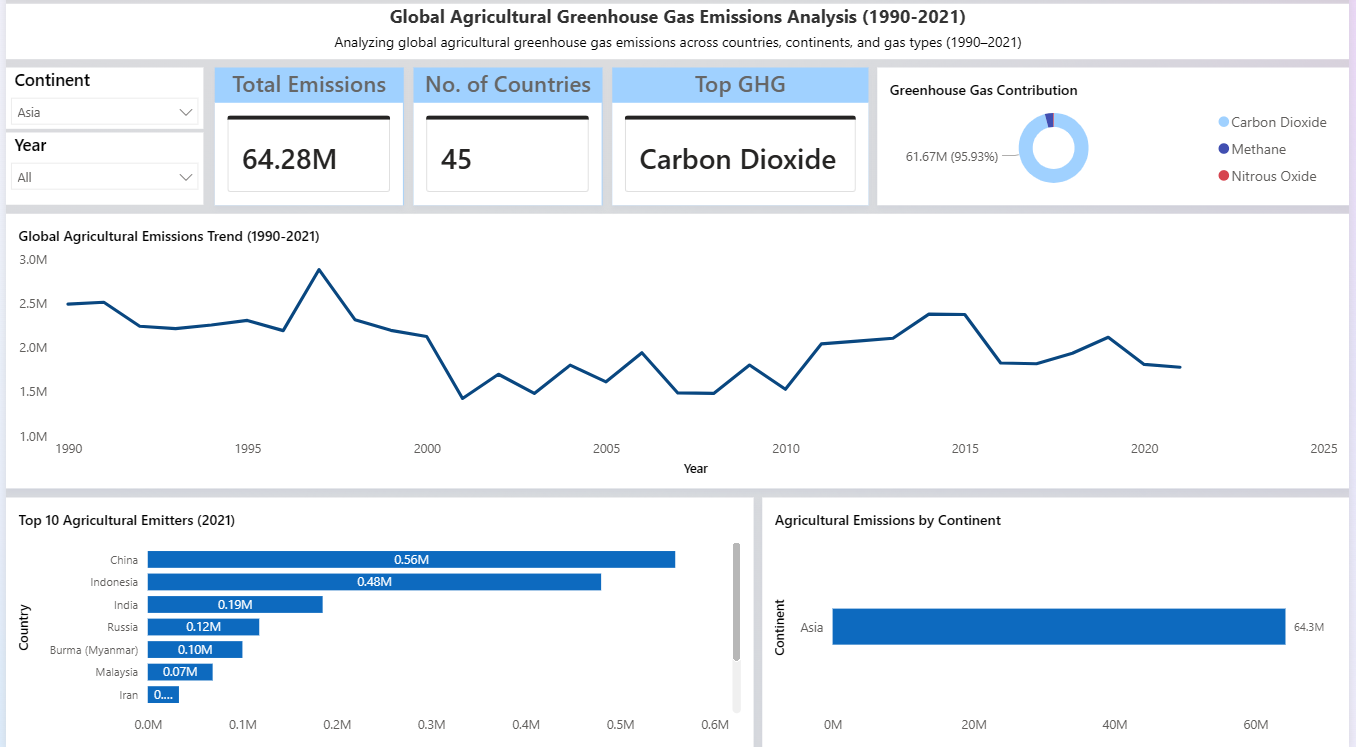

This screenshot's page, from the dashboard's own definition file:
{"tool":"powerbi","page":{"name":"Page 1","canvas":[1280,720],"ordinal":0},"visuals":[{"type":"lineChart","title":"Global Agricultural Emissions Trend (1990-2021)","fields":{"Category":["GHG_Emissions_Final.Year"],"Y":["Sum(GHG_Emissions_Final.Emission)"]},"box":[0,208.3,1279.8,261.9],"z":0},{"type":"slicer","fields":{"Values":["GHG_Emissions_Final.Continent"]},"box":[0,69,188.1,58.3],"z":1000},{"type":"clusteredBarChart","title":"Agricultural Emissions by Continent","fields":{"Category":["GHG_Emissions_Final.Continent"],"Y":["Sum(GHG_Emissions_Final.Emission)"]},"box":[720.2,478.6,559.5,241.7],"z":2000},{"type":"donutChart","title":"Greenhouse Gas Contribution","fields":{"Category":["GHG_Emissions_Final.Gas_Type"],"Y":["Sum(GHG_Emissions_Final.Emission)"]},"box":[829.8,69,450,131],"z":3000},{"type":"textbox","title":"Global Agricultural Greenhouse Gas Emissions Analysis (1990-2021)","box":[0,8.4,1280,52.8],"z":4000},{"type":"cardVisual","title":"Total Emissions","fields":{"Data":["Sum(GHG_Emissions_Final.Emission)"]},"box":[198.8,69,179.8,131],"z":5000},{"type":"slicer","fields":{"Values":["GHG_Emissions_Final.Year"]},"box":[0,131,188.1,69],"z":6000},{"type":"cardVisual","title":"No. of Countries","fields":{"Data":["Count(GHG_Emissions_Final.Country)"]},"box":[388.1,69,179.8,131],"z":7000},{"type":"cardVisual","title":"Top GHG","fields":{"Data":["Min(GHG_Emissions_Final.Gas_Type)"]},"box":[577.4,69,244,131],"z":8000},{"type":"clusteredBarChart","title":"Top 10 Agricultural Emitters (2021)","fields":{"Category":["GHG_Emissions_Final.Country"],"Y":["Sum(GHG_Emissions_Final.Emission)"]},"box":[0,478.6,711.9,241.7],"z":9000}]}

Visuals, with their boxes in screenshot pixels (x1, y1, x2, y2), scaled from the page's 1280x720 canvas onto the 1356x747 screenshot:
"Global Agricultural Emissions Trend (1990-2021)" lineChart: (left=0, top=216, right=1355, bottom=488)
slicer - GHG_Emissions_Final.Continent: (left=0, top=72, right=199, bottom=132)
"Agricultural Emissions by Continent" clusteredBarChart: (left=763, top=497, right=1355, bottom=746)
"Greenhouse Gas Contribution" donutChart: (left=879, top=72, right=1355, bottom=208)
"Global Agricultural Greenhouse Gas Emissions Analysis (1990-2021)" textbox: (left=0, top=9, right=1355, bottom=63)
"Total Emissions" cardVisual: (left=211, top=72, right=401, bottom=208)
slicer - GHG_Emissions_Final.Year: (left=0, top=136, right=199, bottom=208)
"No. of Countries" cardVisual: (left=411, top=72, right=602, bottom=208)
"Top GHG" cardVisual: (left=612, top=72, right=870, bottom=208)
"Top 10 Agricultural Emitters (2021)" clusteredBarChart: (left=0, top=497, right=754, bottom=746)
